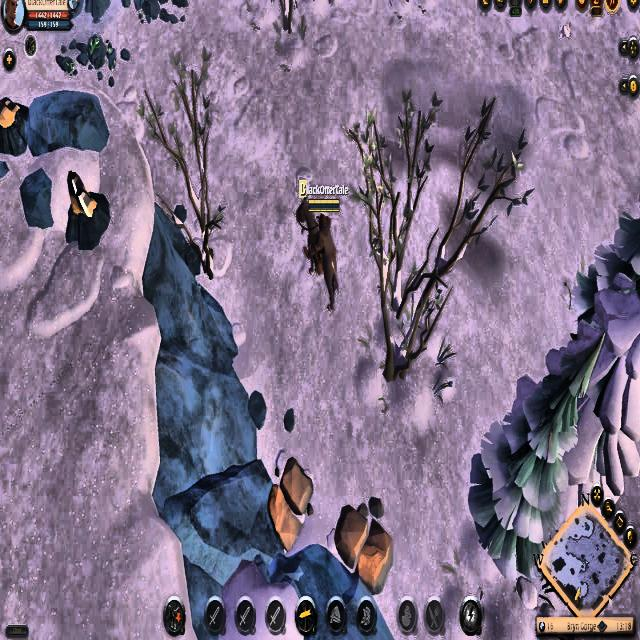copperore: (55, 165, 108, 242), (0, 90, 25, 138)
limestone: (337, 500, 394, 595), (267, 452, 312, 555)
